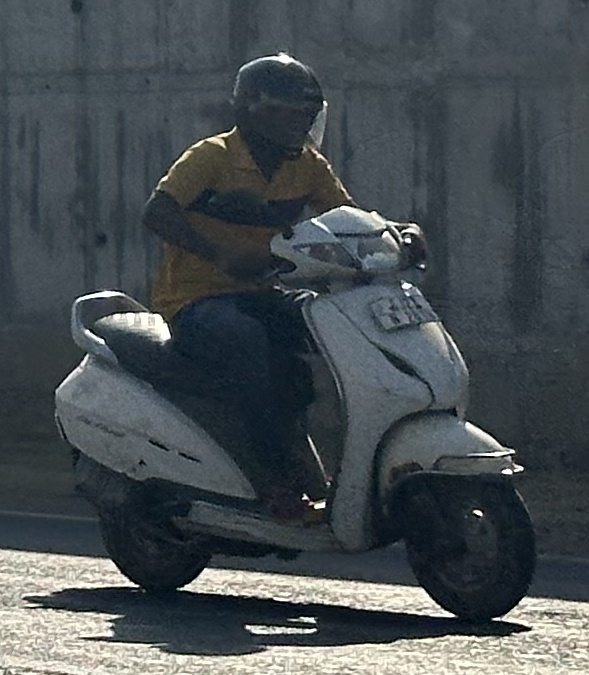BikeWithRider: (42, 41, 548, 629)
Helmet: (218, 44, 336, 159)
